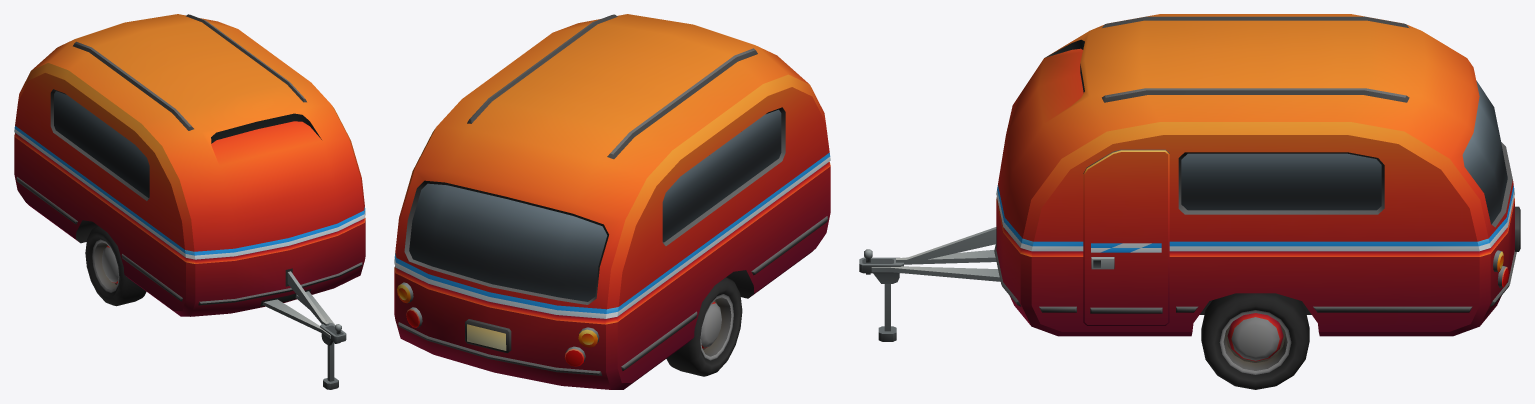
Rendered from Camper_Trailer_1B.fbx.
3 renders of one model, left to right at view 1: azimuth 30°, elevation 25°; view 2: azimuth 150°, elevation 25°; view 3: azimuth 270°, elevation 25°, orthographic. The views are drawn at different scales.
Parts seen in each view (by area): view 1: Camper_Trailer_1B, Camper_Trailer_1B_Wheel_R, Camper_Trailer_1B_Pin; view 2: Camper_Trailer_1B, Camper_Trailer_1B_Wheel_R, Camper_Trailer_1B_Lights; view 3: Camper_Trailer_1B, Camper_Trailer_1B_Wheel_L, Camper_Trailer_1B_Pin.
Part boxes in pixels (<box>): Camper_Trailer_1B: <box>14,14,365,345</box>; Camper_Trailer_1B_Wheel_R: <box>85,226,146,306</box>; Camper_Trailer_1B_Pin: <box>323,341,338,389</box>; Camper_Trailer_1B: <box>394,14,830,389</box>; Camper_Trailer_1B_Wheel_R: <box>666,277,742,376</box>; Camper_Trailer_1B_Lights: <box>406,310,582,365</box>; Camper_Trailer_1B: <box>859,14,1520,336</box>; Camper_Trailer_1B_Wheel_L: <box>1201,293,1309,389</box>; Camper_Trailer_1B_Pin: <box>878,284,896,341</box>.
Size of the model in its own units: 217 by 246 by 512.
